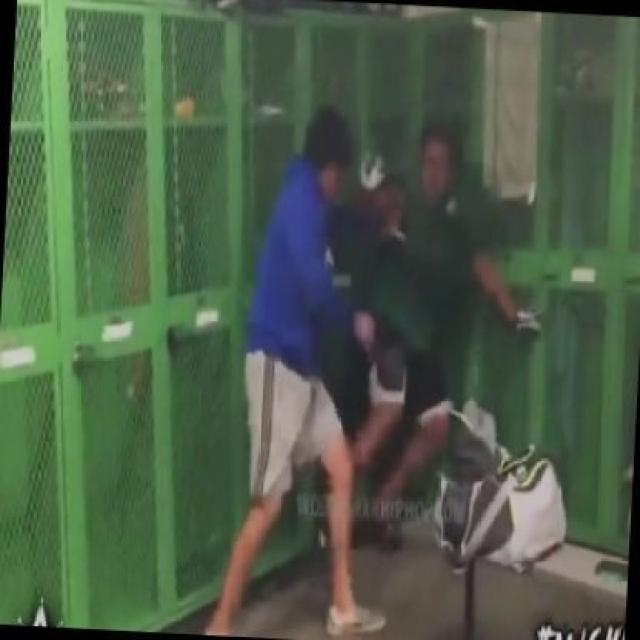fight: (206, 84, 544, 632)
